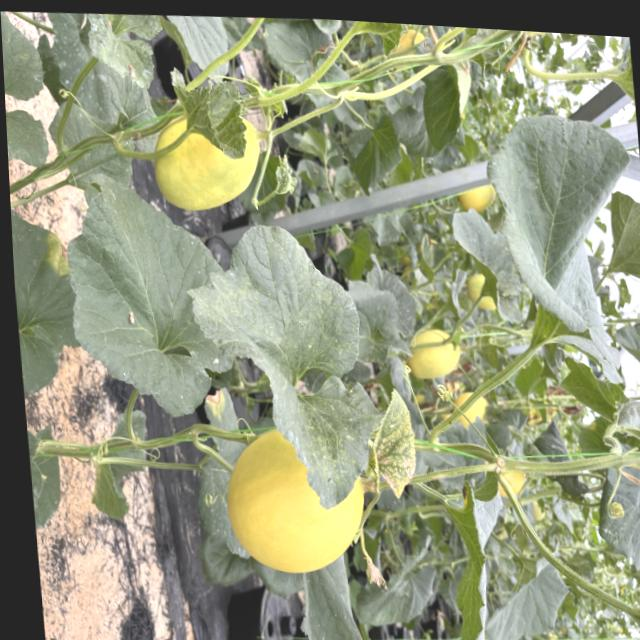CMV: (360, 384, 420, 500)
SLCV: (163, 52, 251, 172), (83, 10, 168, 95)
alternaria leaf blight: (11, 203, 87, 401), (441, 478, 515, 640)
bacterial wilt: (362, 553, 387, 593)
downy mildew: (169, 203, 386, 514)
healthy: (478, 106, 640, 403), (49, 164, 212, 435)
powdery mildew: (0, 9, 50, 118), (5, 94, 53, 177)
